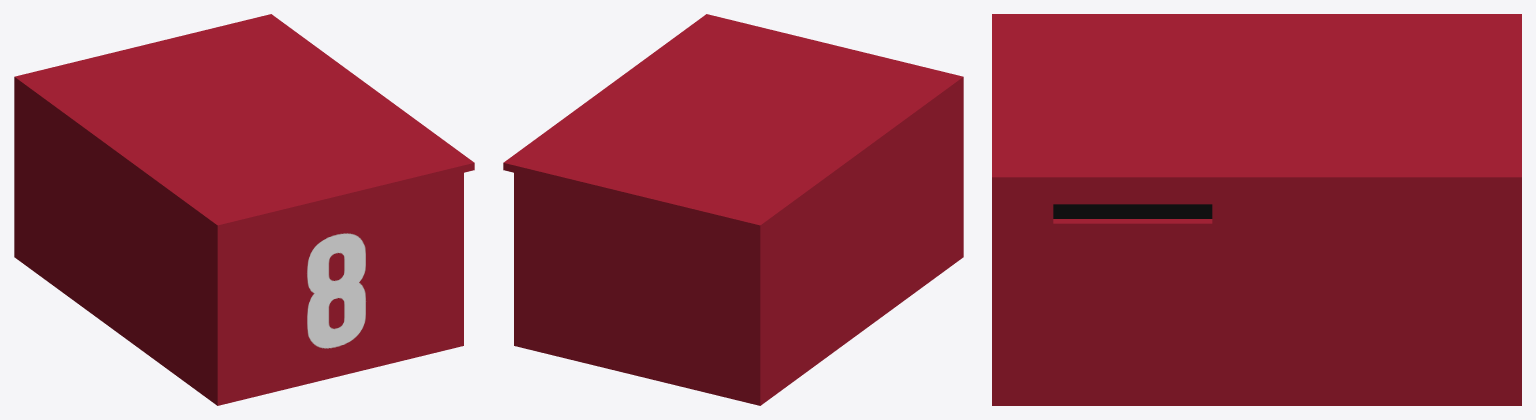
Rendered from SM_BancaIniesta.gltf.
3 renders of one model, left to right at view 1: azimuth 30°, elevation 25°; view 2: azimuth 150°, elevation 25°; view 3: azimuth 270°, elevation 25°, orthographic. The views are drawn at different scales.
Visible parts, largest first — view 1: Bench.002; view 2: Bench.002; view 3: Bench.002.
Boxes of the visible parts, x1,y1,x2,y2 form: Bench.002: (14,14,474,405); Bench.002: (503,14,963,405); Bench.002: (992,14,1521,405).
Bounding box in the file's own units: 0.73 × 0.49 × 1.
Materials: 1 (1 with a texture image).
